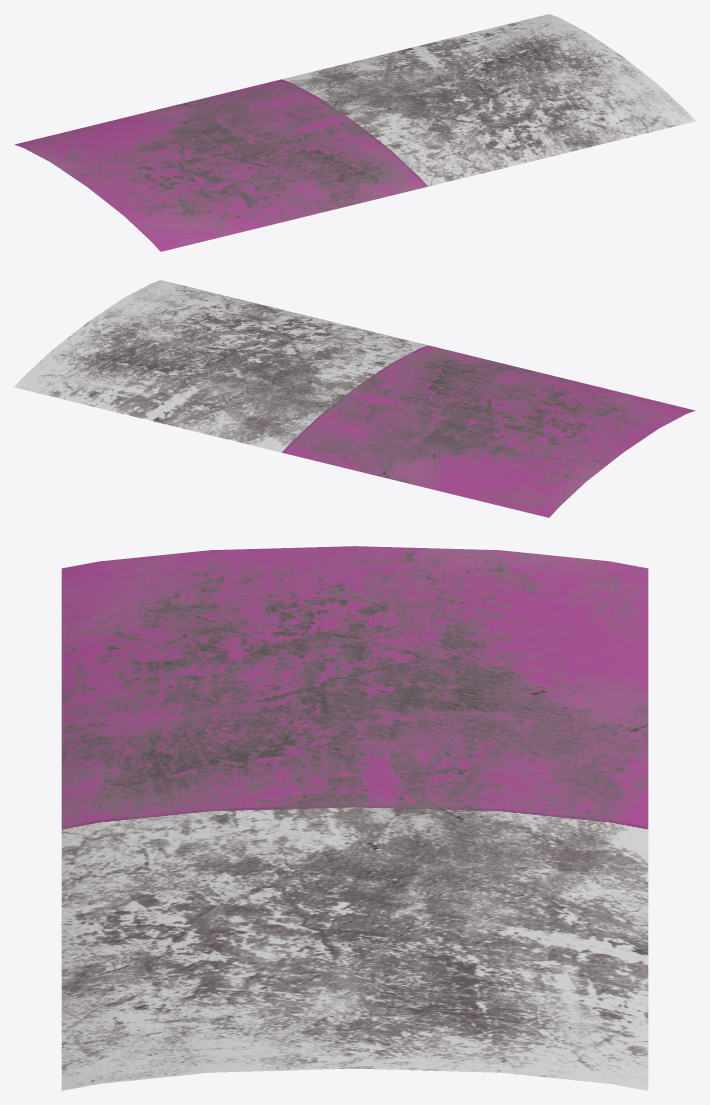
Rendered from Track_Rail.fbx.
3 renders of one model, top to bottom at view 1: azimuth 30°, elevation 25°; view 2: azimuth 150°, elevation 25°; view 3: azimuth 270°, elevation 25°, orthographic. The views are drawn at different scales.
Parts seen in each view (by area): view 1: Track_Rail1; view 2: Track_Rail1; view 3: Track_Rail1.
Boxes of the visible parts, x1,y1,x2,y2 form: Track_Rail1: (14, 14, 695, 251); Track_Rail1: (14, 280, 695, 517); Track_Rail1: (61, 546, 648, 1090).
Size of the model in its own units: 23.66 by 0.4703 by 11.23.
